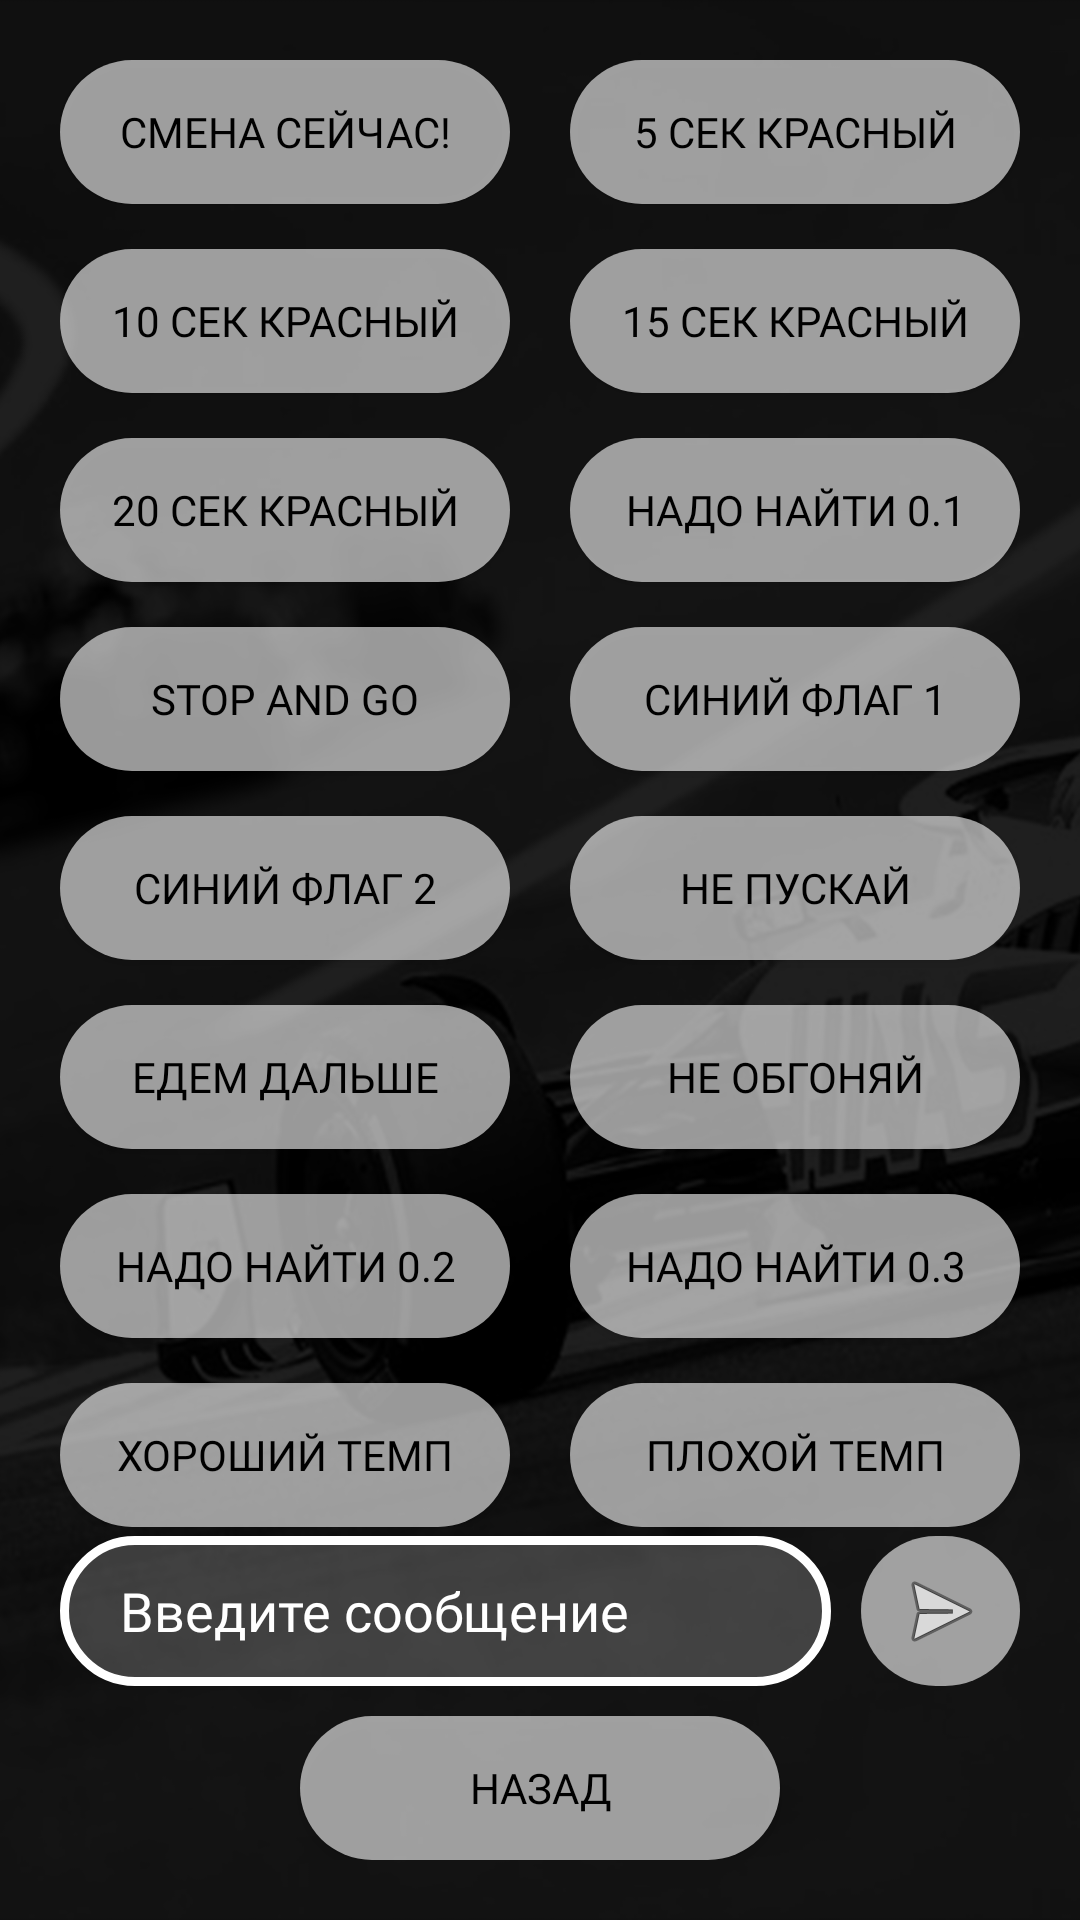

Where icons sit on this 1080x1920 app screen, as [left=x1, top=y1, right=x2, bottom=y2]:
send: [left=861, top=1536, right=1020, bottom=1686]
